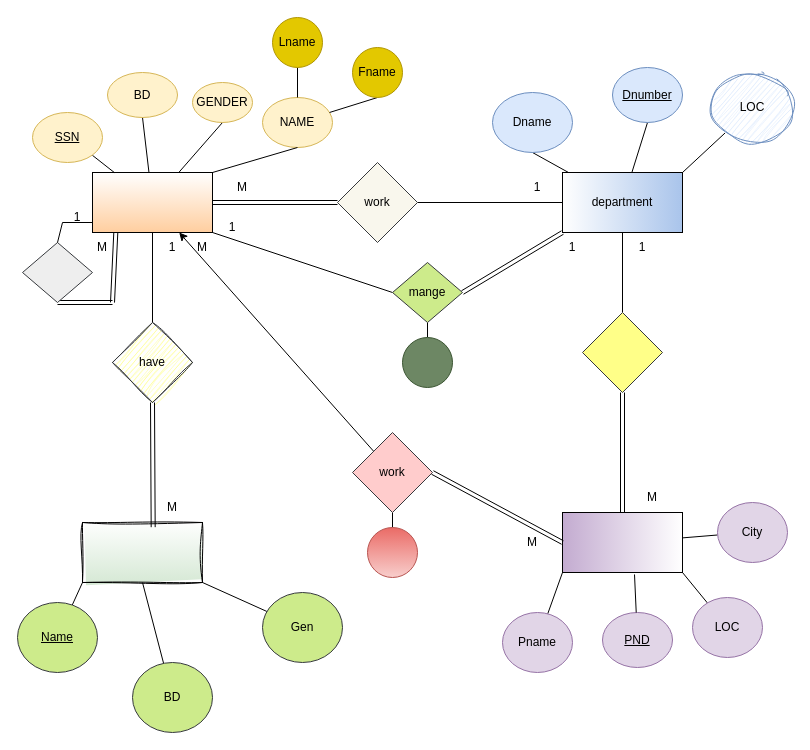
This 810x750 diagram has some shape labels left out. The shapes that lost their labels are listed below. From the top down, each one's centre as x and y in pixels, then its label:
the point at 152,202: employee
the point at 57,272: supervised
the point at 427,362: HD
the point at 622,352: has
the point at 142,552: depantent
the point at 392,552: WH
the point at 622,542: project
